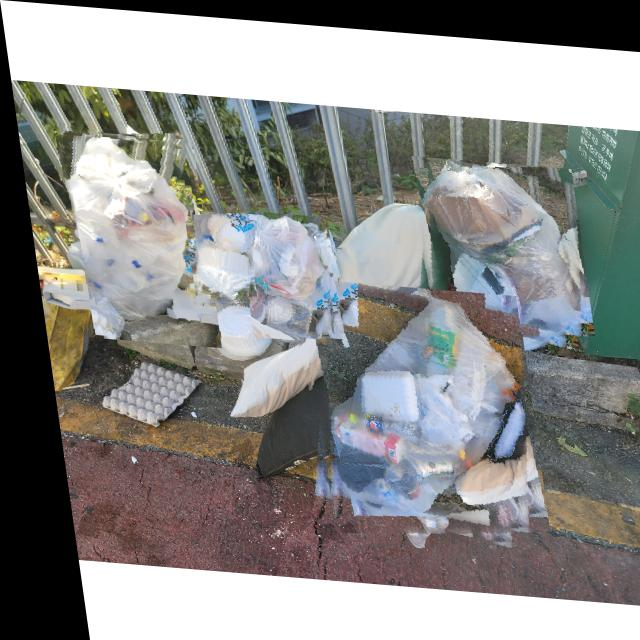other_trashbag: (314, 276, 514, 529), (52, 135, 211, 345), (424, 151, 573, 330), (234, 208, 326, 333), (188, 208, 251, 300)
